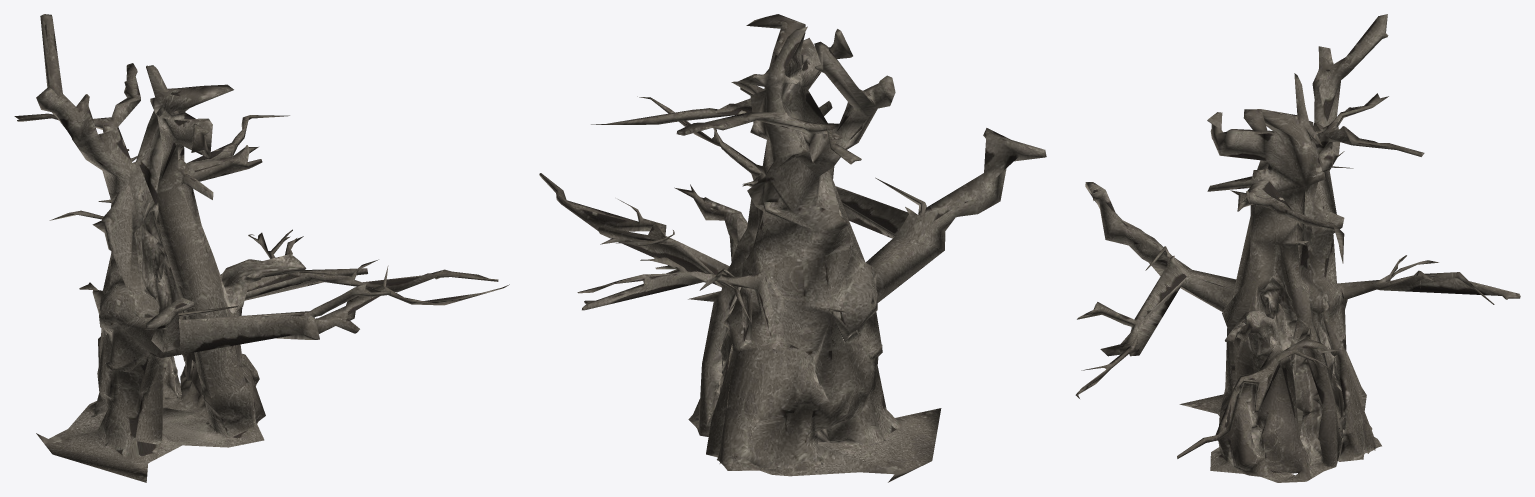
File: tree_oak_old.glb
3 renders of one model, left to right at view 1: azimuth 30°, elevation 25°; view 2: azimuth 150°, elevation 25°; view 3: azimuth 270°, elevation 25°, orthographic. The views are drawn at different scales.
Parts seen in each view (by area): view 1: tree_oak_old; view 2: tree_oak_old; view 3: tree_oak_old.
Boxes of the visible parts, x1,y1,x2,y2 form: tree_oak_old: [14, 14, 509, 482]; tree_oak_old: [539, 14, 1046, 482]; tree_oak_old: [1075, 14, 1520, 482].
Bounding box in the file's own units: 8.94 × 8.44 × 8.69.
Materials: 1 (1 with a texture image).
